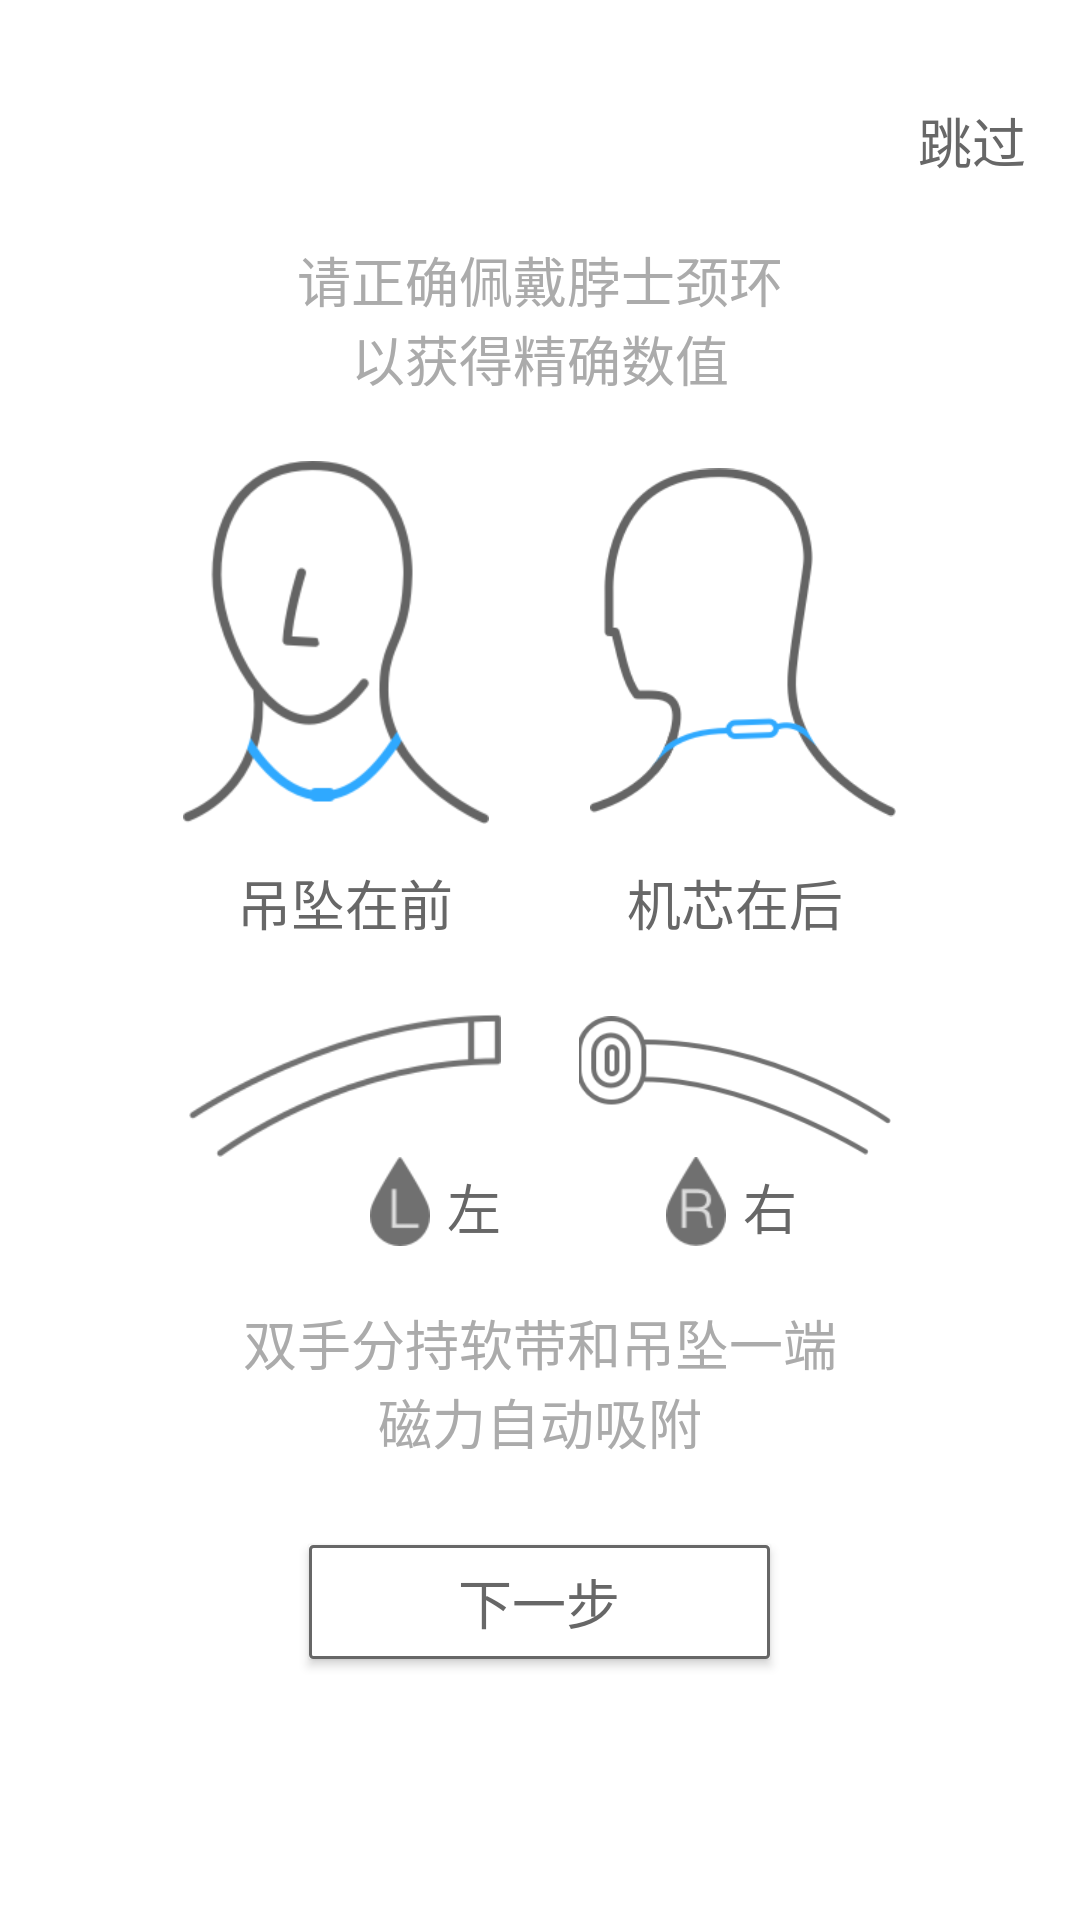

Icon bounding boxes for this 1080 x 1920 phone screenshot, format (x1, y1, x2, y2):
belt: (189, 1015, 501, 1157), (579, 1016, 891, 1155)
drip: (370, 1157, 430, 1246), (666, 1157, 726, 1246)
